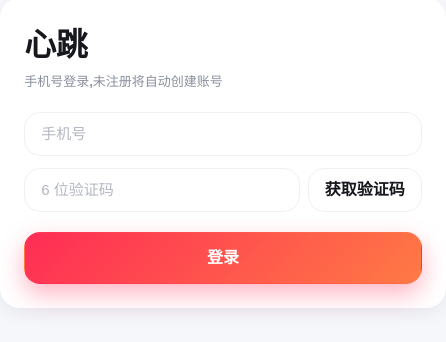
Scenario: LoginPage › 验证码位数不足时不提交
Type "13800000001" into the field with placeholder "手机号" at (223, 134), box 24,112 -> 422,156
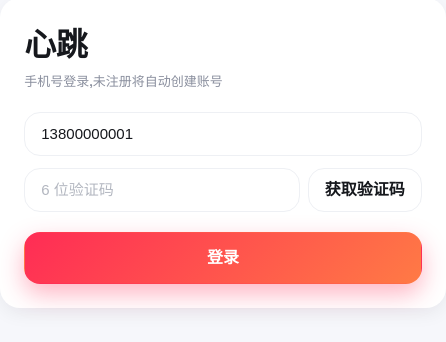
Type "12" into the field with placeholder "6 位验证码" at (162, 190), box 24,168 -> 300,212
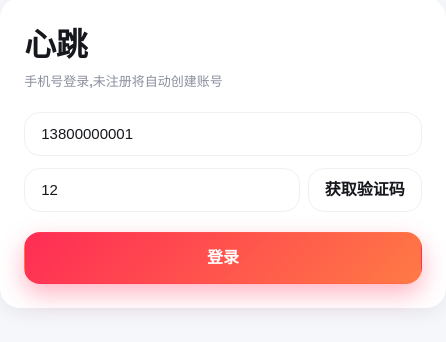
Click the button with class "login__submit" at (223, 258), box 24,232 -> 422,284
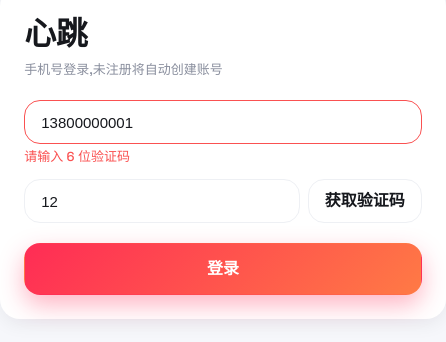
Result: the text "请输入 6 位验证码" is shown at 24,148 -> 130,165
